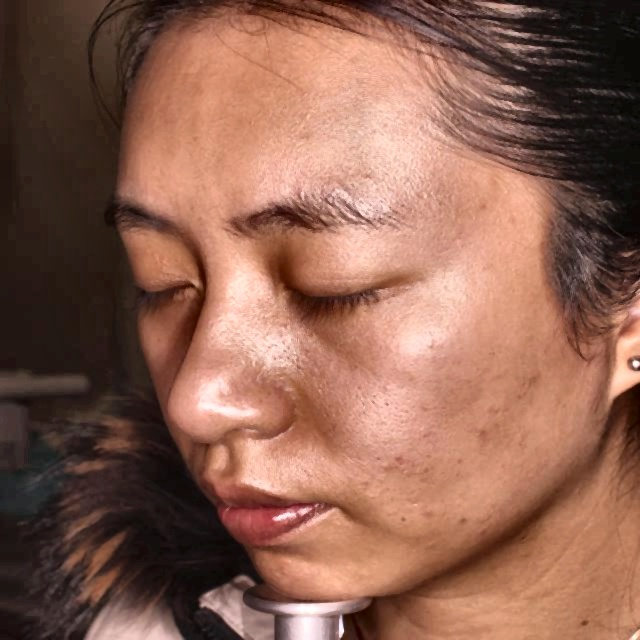comedone: (372, 451, 411, 479), (463, 421, 498, 444)
